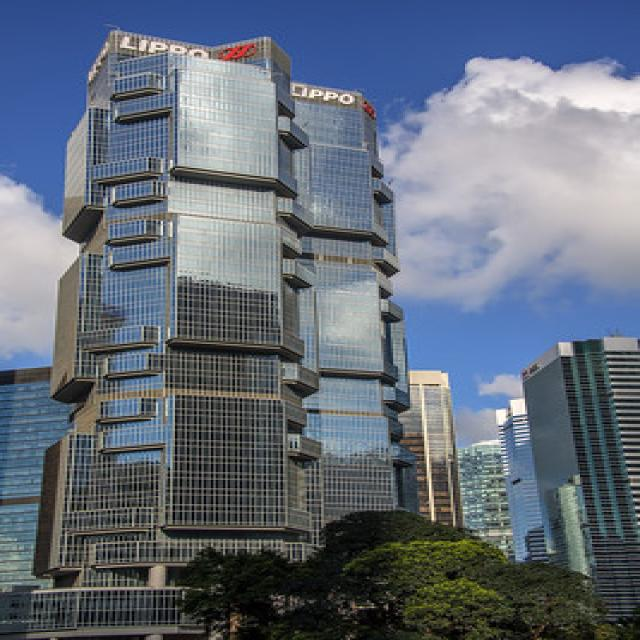building: (47, 23, 423, 606)
